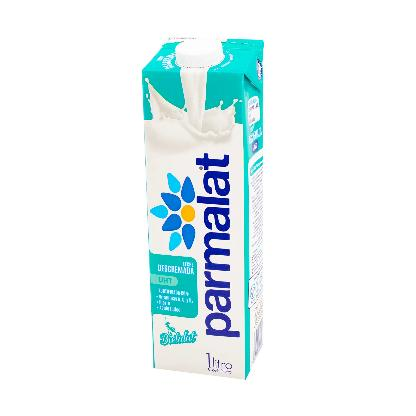Others: (138, 31, 268, 386)
